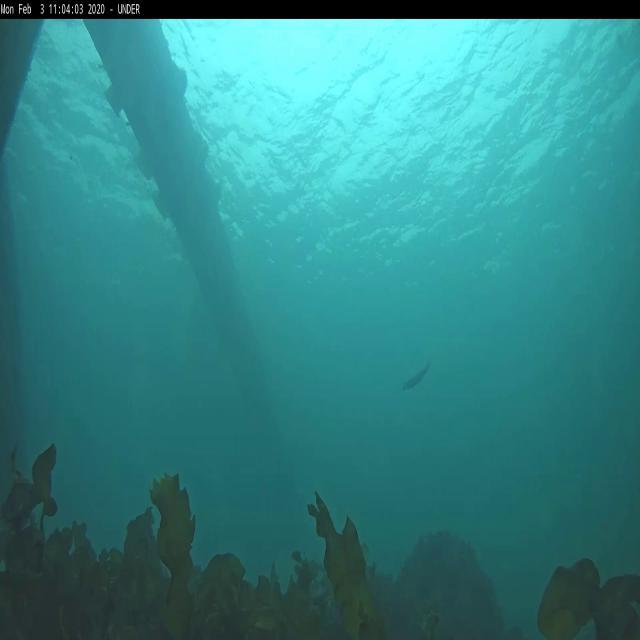fish: (404, 358, 430, 392)
